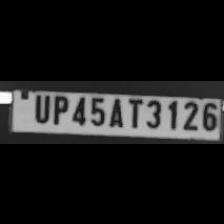1: (162, 97, 180, 129)
2: (178, 97, 198, 129)
3: (142, 96, 162, 128)
4: (69, 92, 87, 124)
5: (86, 94, 106, 124)
6: (200, 98, 218, 130)
A: (107, 94, 125, 125)
P: (48, 92, 68, 122)
T: (124, 94, 142, 125)
U: (30, 91, 50, 123)
